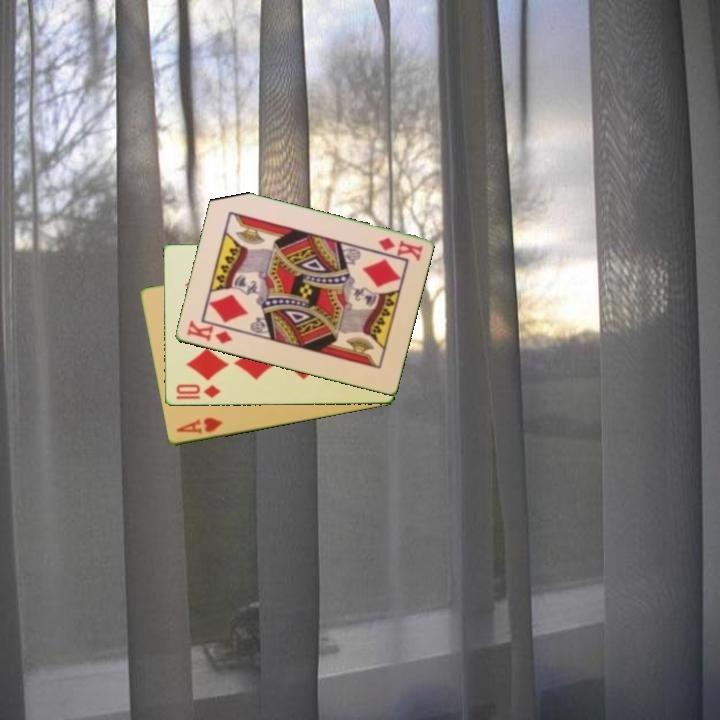10d: (173, 381, 223, 402)
Ah: (173, 414, 225, 437)
Kd: (183, 317, 235, 347), (374, 234, 425, 263)
